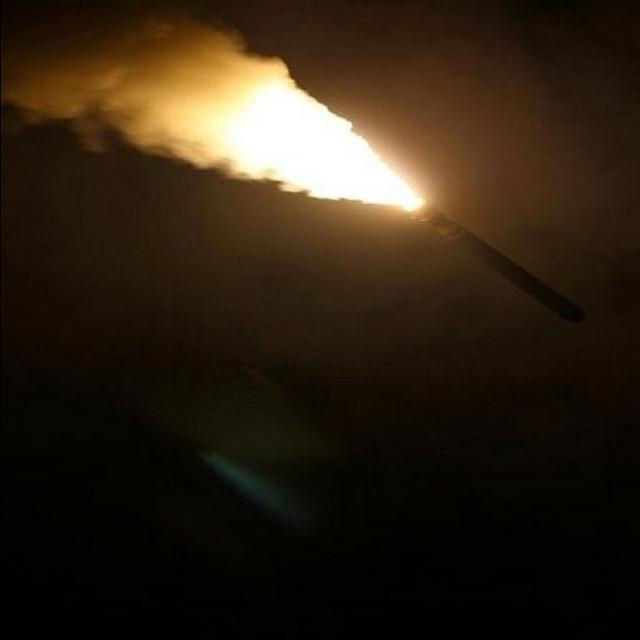Missile: (443, 211, 599, 326)
